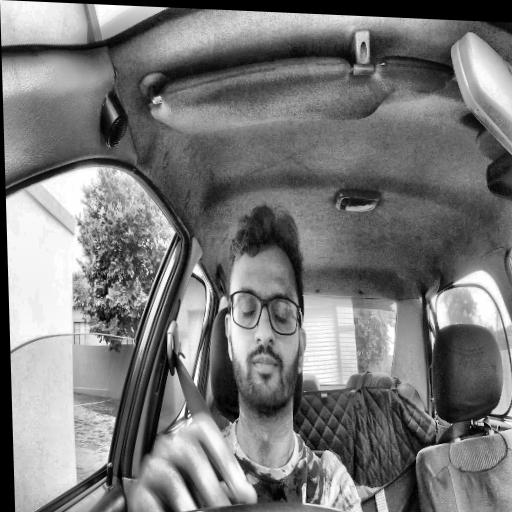drowsy: (220, 203, 309, 417)
